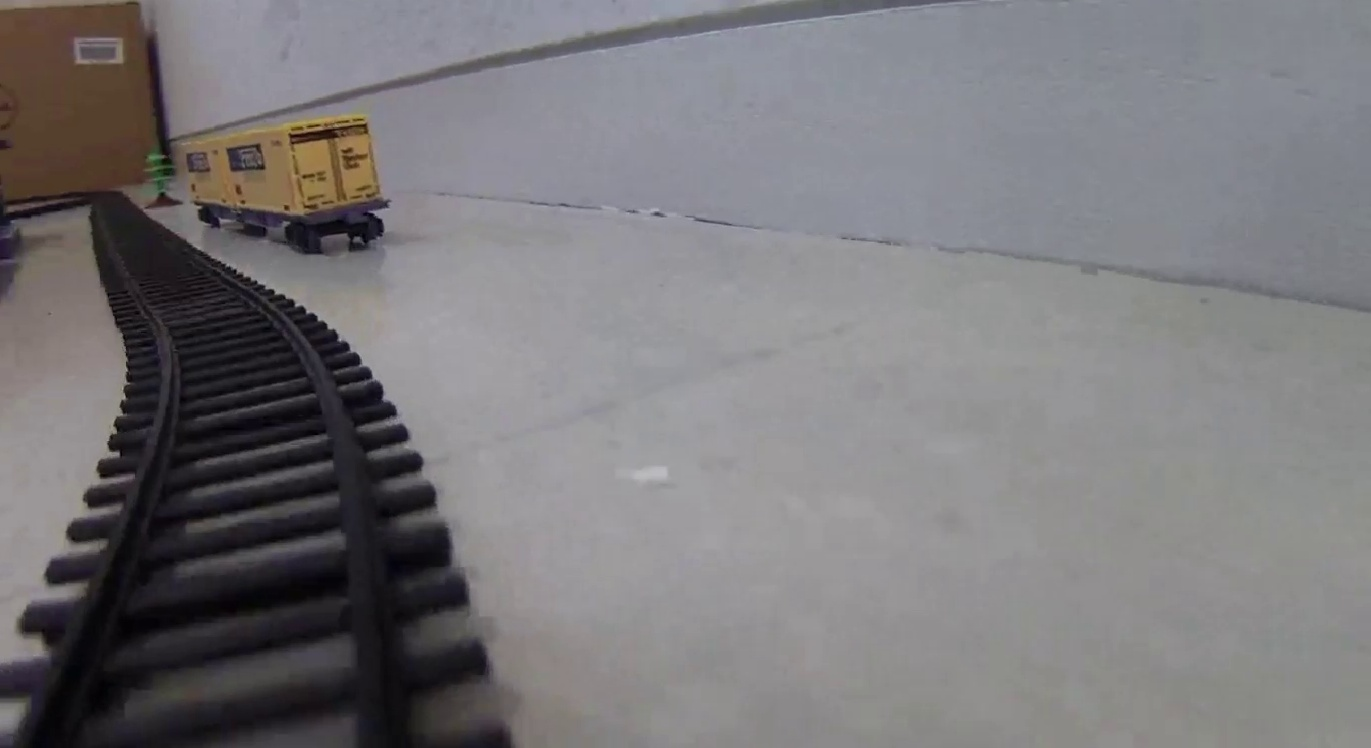tree: (138, 144, 183, 210)
